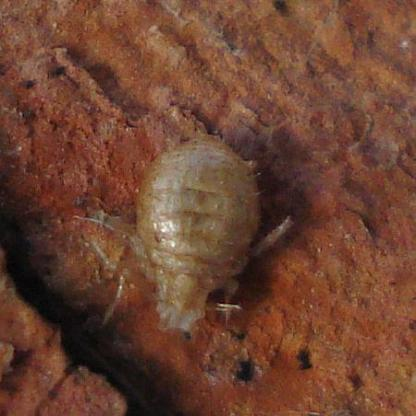aphid: (67, 123, 311, 346)
